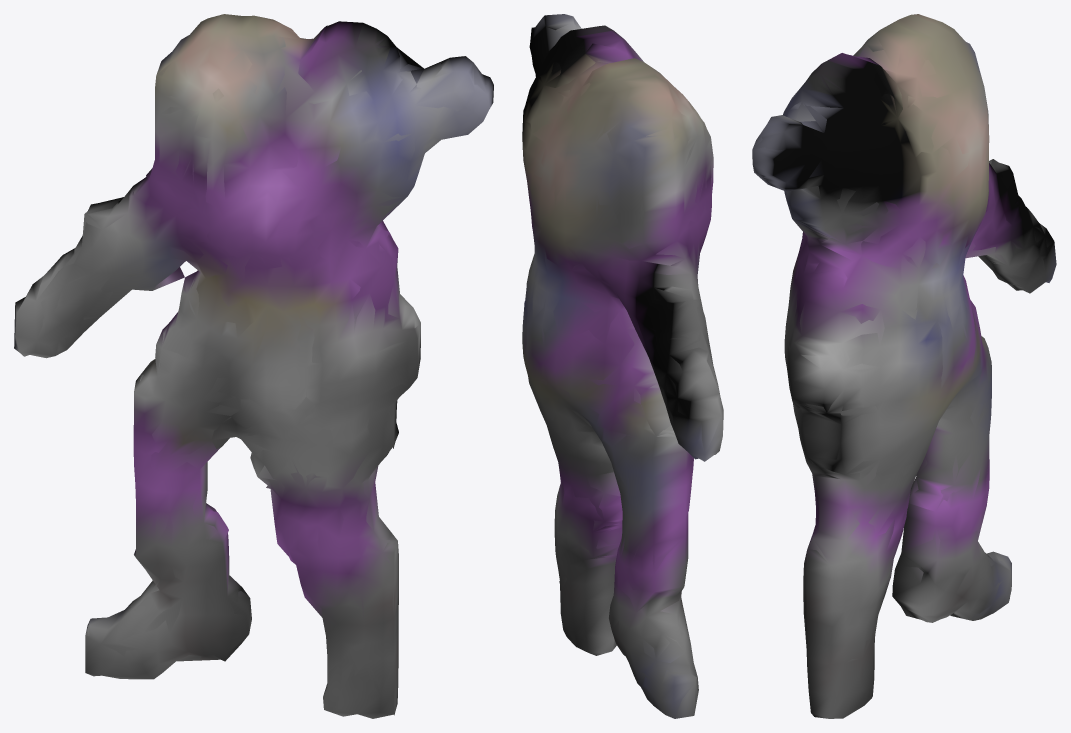
File: yuri_infantry.glb
3 renders of one model, left to right at view 1: azimuth 30°, elevation 25°; view 2: azimuth 150°, elevation 25°; view 3: azimuth 270°, elevation 25°, orthographic. The views are drawn at different scales.
Visible parts, largest first — view 1: yuri_initiate; view 2: yuri_initiate; view 3: yuri_initiate.
Part boxes in pixels (x1,y1,x2,y2): yuri_initiate: [14, 14, 493, 718]; yuri_initiate: [522, 14, 723, 718]; yuri_initiate: [752, 14, 1056, 718].
Bounding box in the file's own units: 1.18 × 2.23 × 0.9524.
